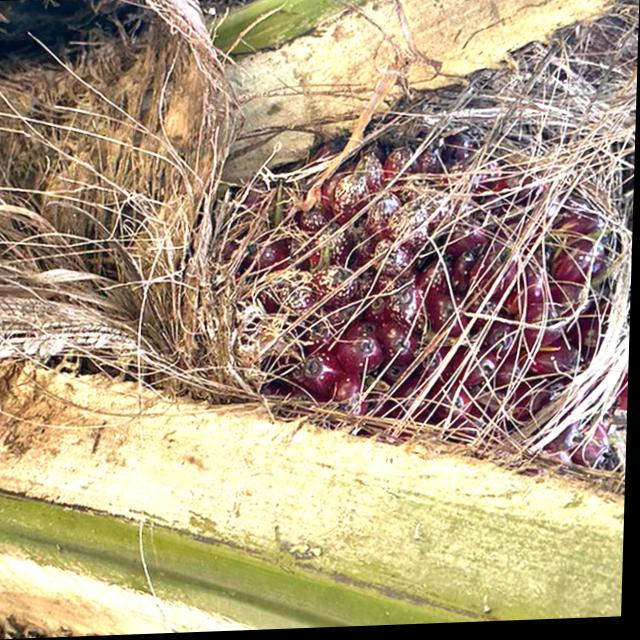ripe: (218, 75, 637, 505)
